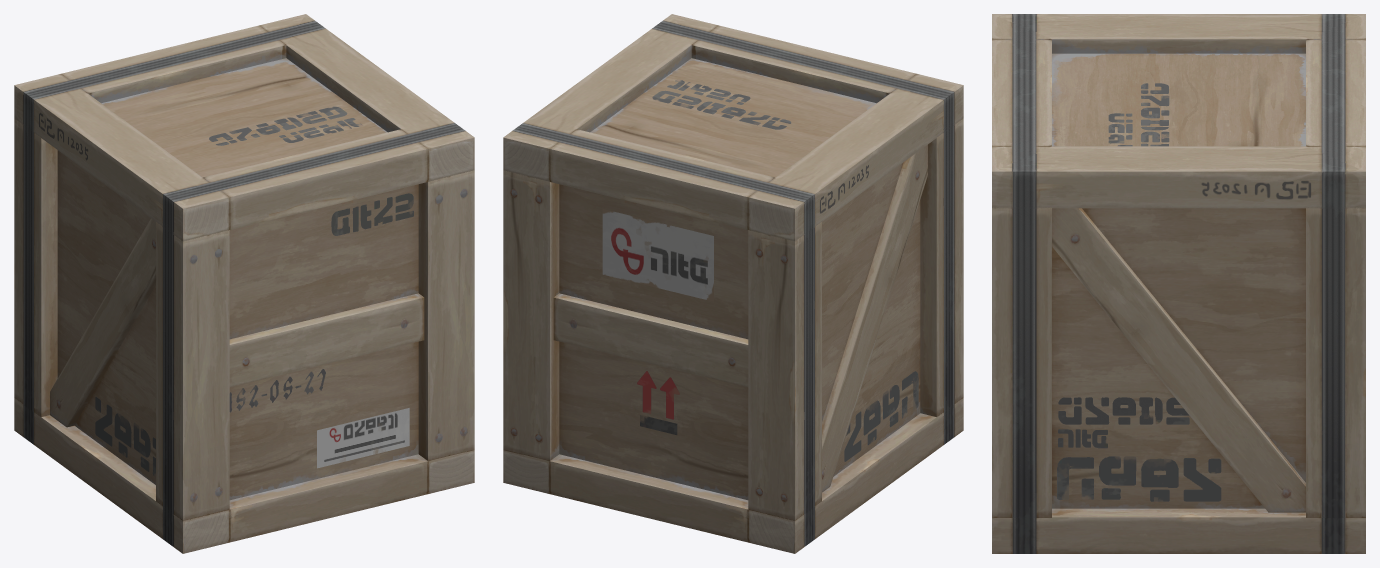
File: P_WoodBox_003_S1_M01.obj
3 views of the same model, side by side, from view 1: azimuth 30°, elevation 25°; view 2: azimuth 150°, elevation 25°; view 3: azimuth 270°, elevation 25° (orthographic). The views are drawn at different scales.
Bounding box in the file's own units: 0.7947 × 0.8982 × 0.796.
1 material, 1 textured.
